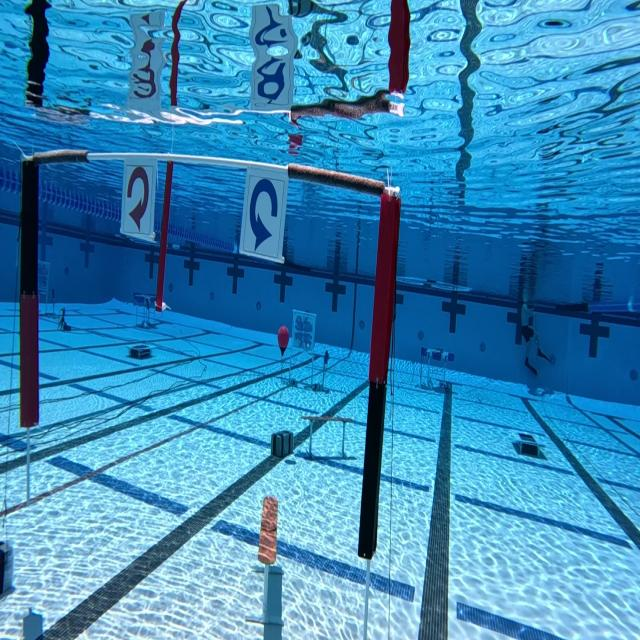blue_side: (242, 169, 290, 266)
red_side: (122, 153, 162, 250)
